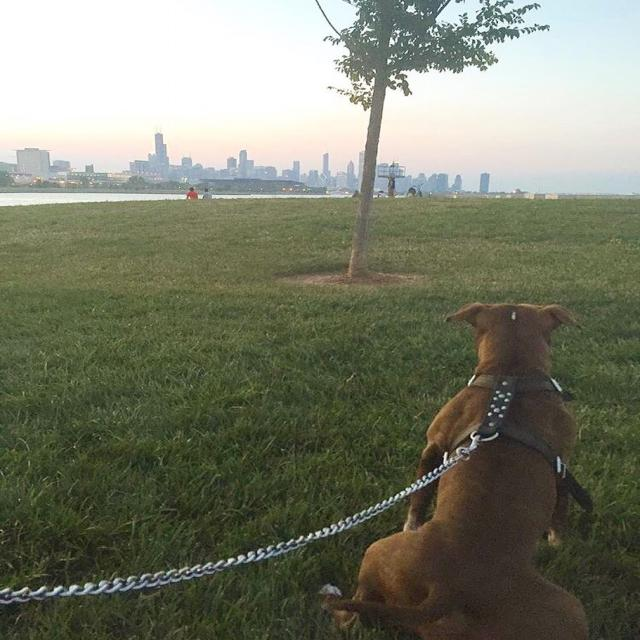squatting: (314, 292, 625, 640)
